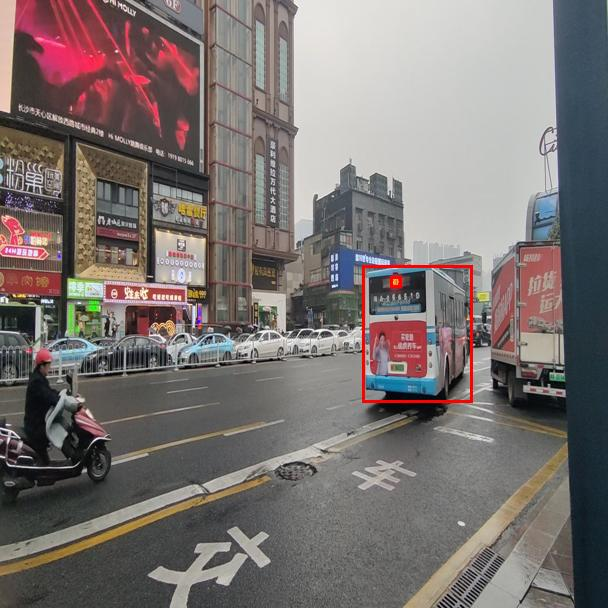bus: (362, 265, 472, 402)
screen: (390, 276, 401, 287)
